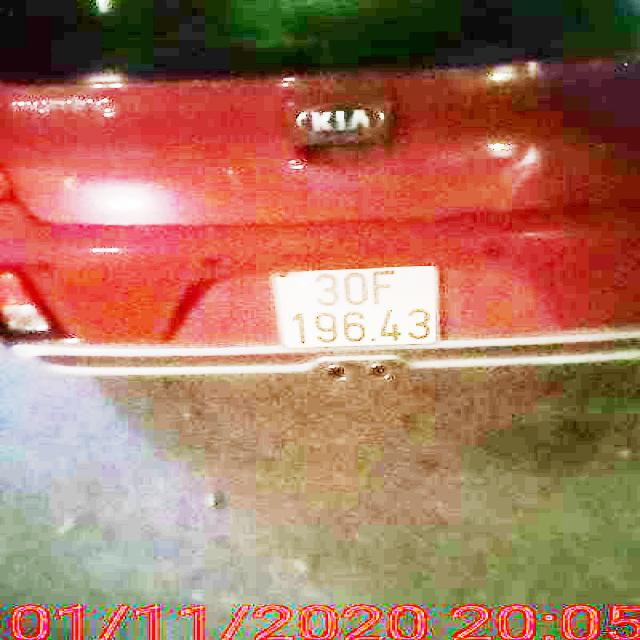license_plate: (283, 266, 441, 350)
